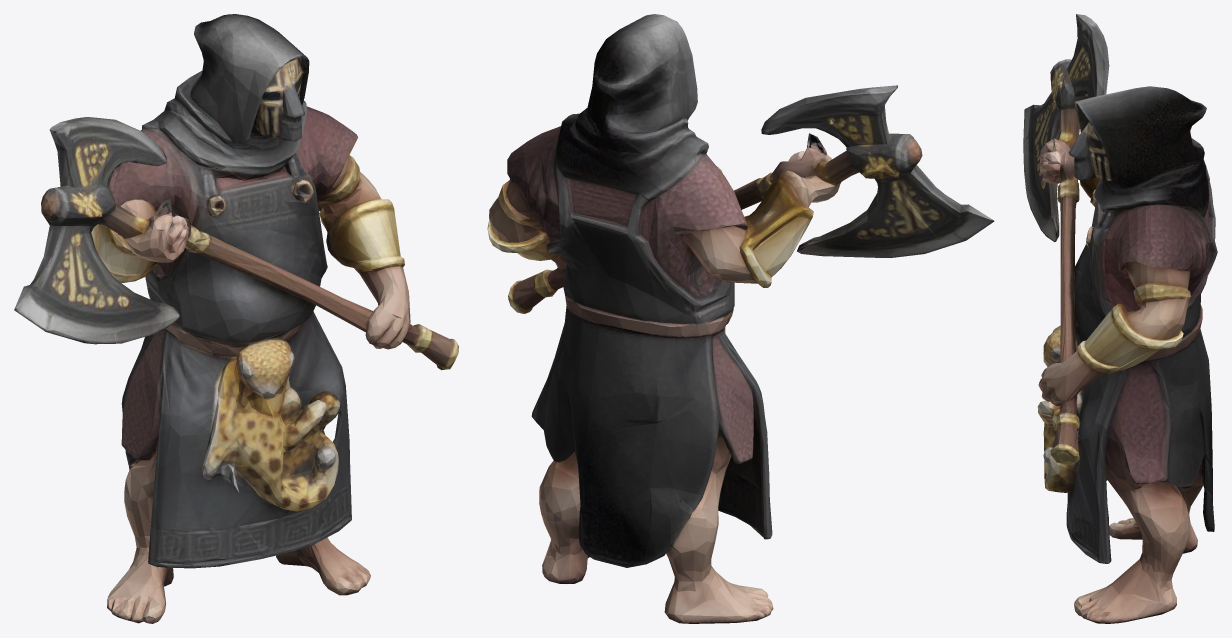
File: maskedExecutioner.glb
3 renders of one model, left to right at view 1: azimuth 30°, elevation 25°; view 2: azimuth 150°, elevation 25°; view 3: azimuth 270°, elevation 25°, orthographic. The views are drawn at different scales.
Visible parts, largest first — view 1: world; view 2: world; view 3: world.
Boxes of the visible parts, bbox=[...] form: world: bbox=[14, 14, 458, 623]; world: bbox=[487, 14, 994, 623]; world: bbox=[1023, 14, 1217, 623].
Bounding box in the file's own units: 0.8655 × 1 × 0.3564.
1 material, 1 textured.
